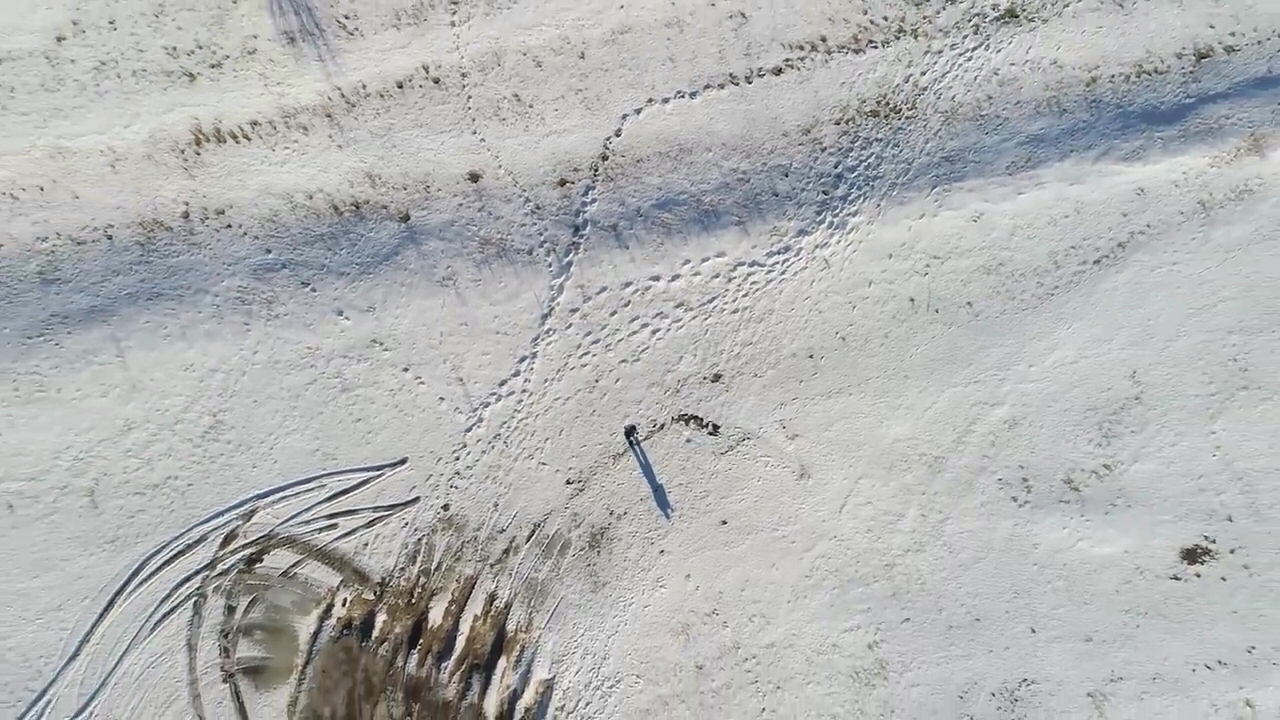insan: (620, 424, 642, 444)
